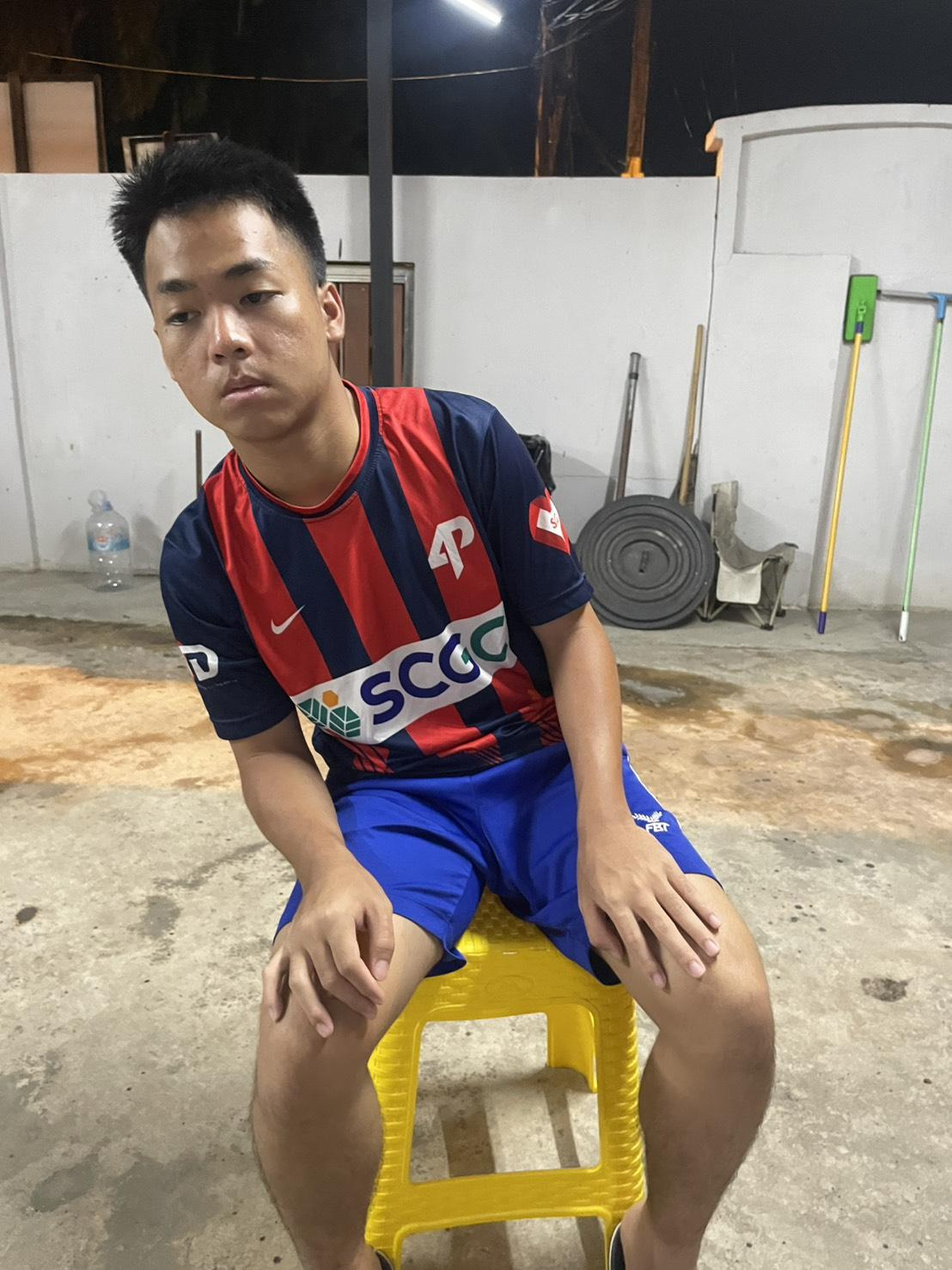BadPosture: (110, 142, 592, 782), (112, 142, 588, 783)
